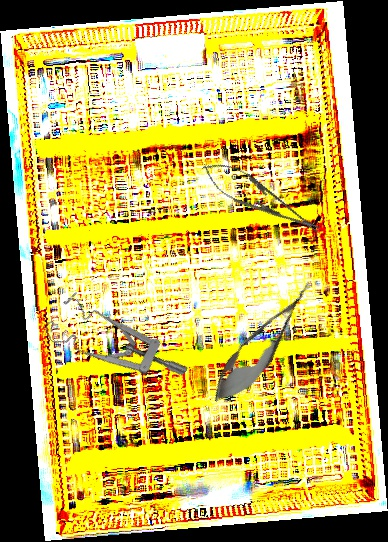Micro Scissor: (201, 270, 326, 415)
Needle Holder: (195, 152, 327, 245)
Speculum: (37, 271, 190, 425)
